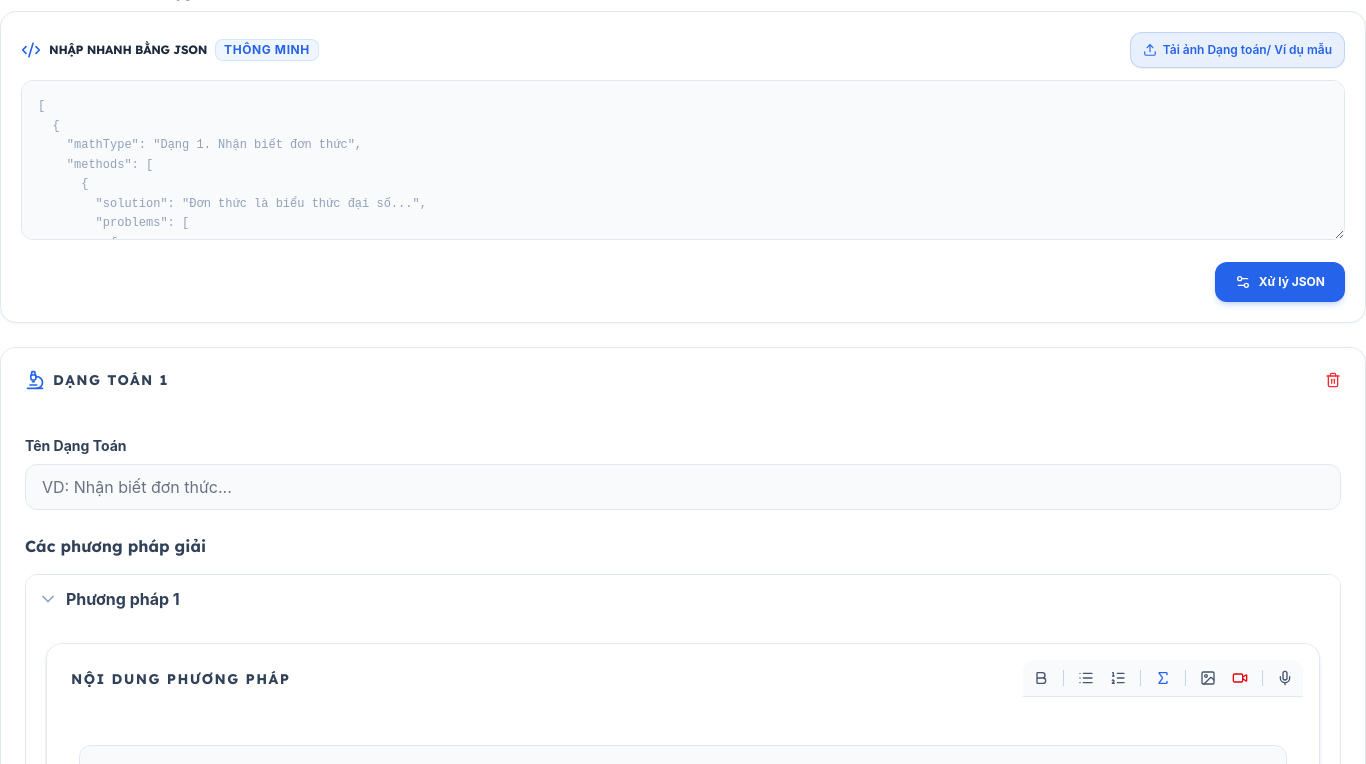
Test: LectureContentEditor › allows removing all DangToan cards and shows empty state notice
(page scrolled)
Expected: the heading "Dạng Toán 1" is shown, [53,370,169,390]
Note: Click delete button on the card
Click the button titled "Xóa Dạng Toán": (1333, 380) [1317,364,1349,396]
(page scrolled)
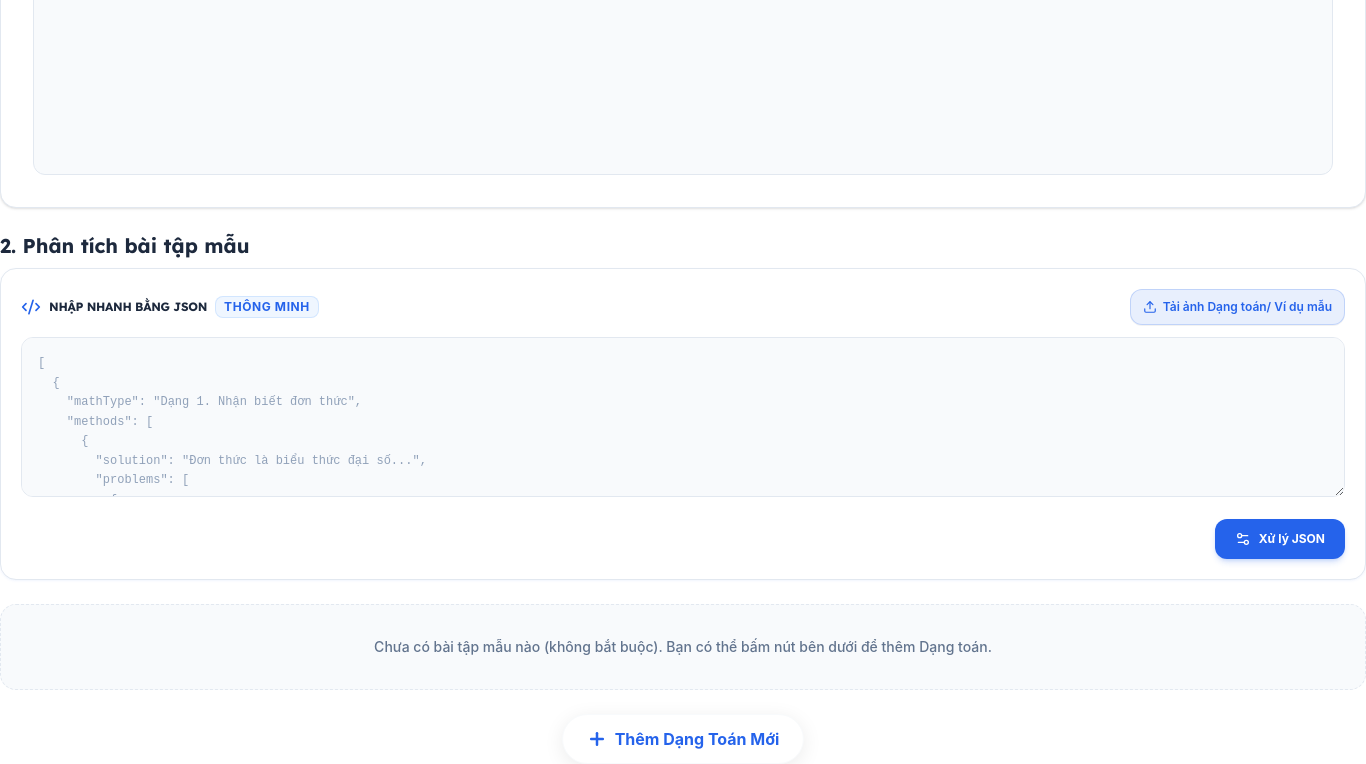
Expected: the heading "Dạng Toán 1" is gone
Expected: the text "Chưa có bài tập mẫu nào (không bắt buộc)" is shown, [374,638,992,655]
Note: Can add a new one
Click the button "Thêm Dạng Toán Mới": (683, 739) [562,714,804,763]
(page scrolled)
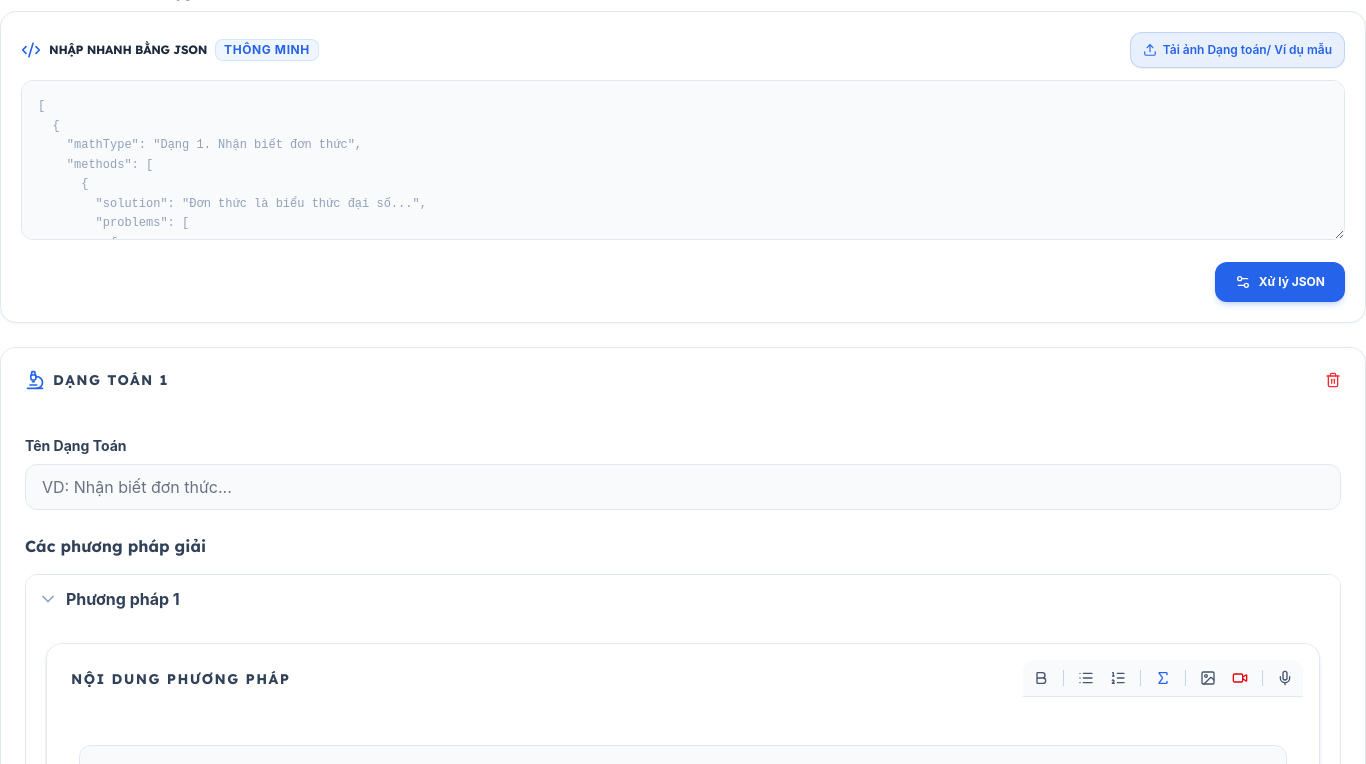
Expected: the heading "Dạng Toán 1" is shown, [53,370,169,390]
